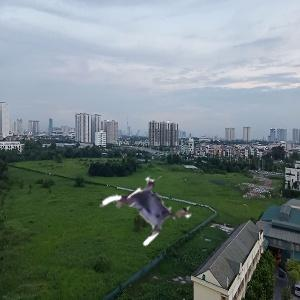drone: (107, 169, 189, 251)
